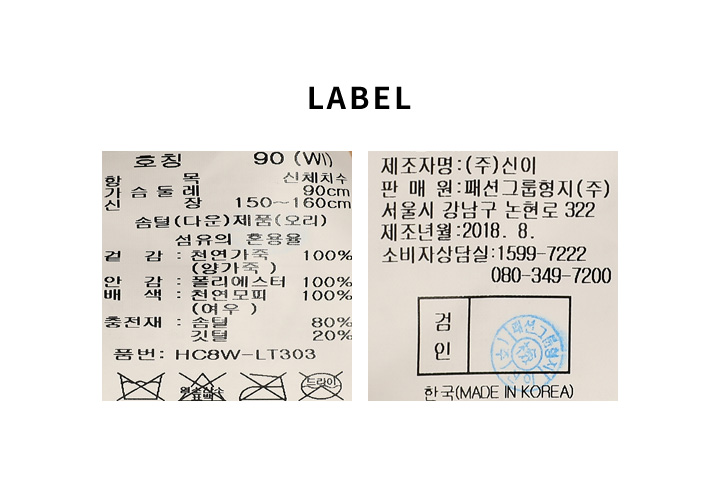KR_no_bleach: (175, 367, 229, 402)
KR_no_dry_clean: (298, 369, 343, 400)
KR_no_iron: (236, 369, 288, 401)
KR_no_wash: (117, 369, 165, 402)
